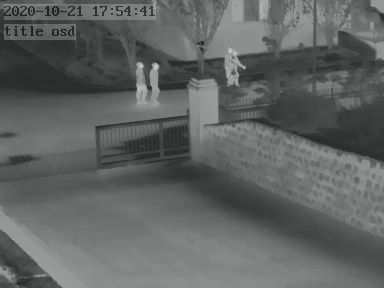person: (224, 47, 245, 86), (149, 61, 163, 101), (134, 61, 148, 101)
